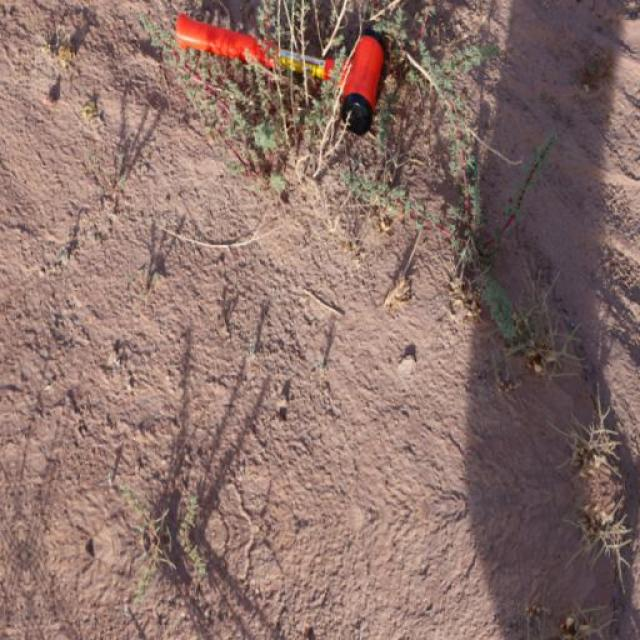mallet: (172, 12, 390, 136)
